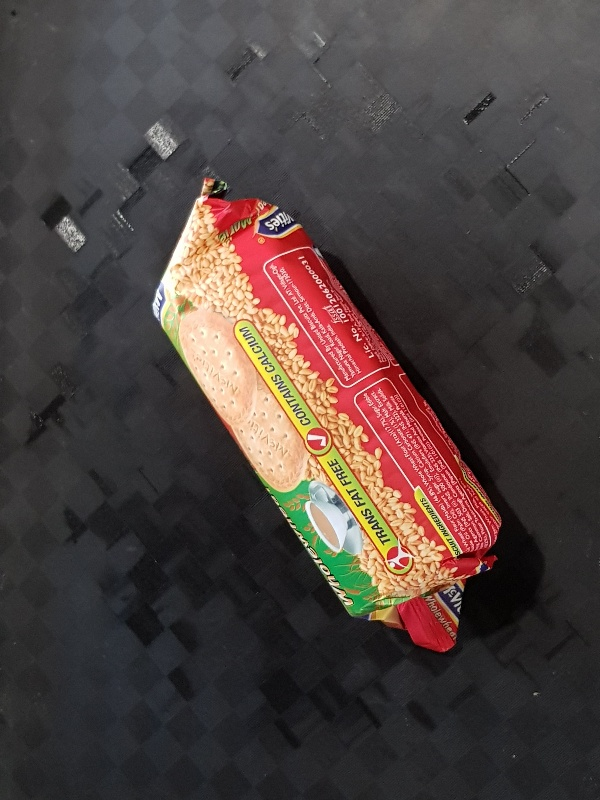McVitie's Wholewheat Marie: (148, 164, 501, 653)
